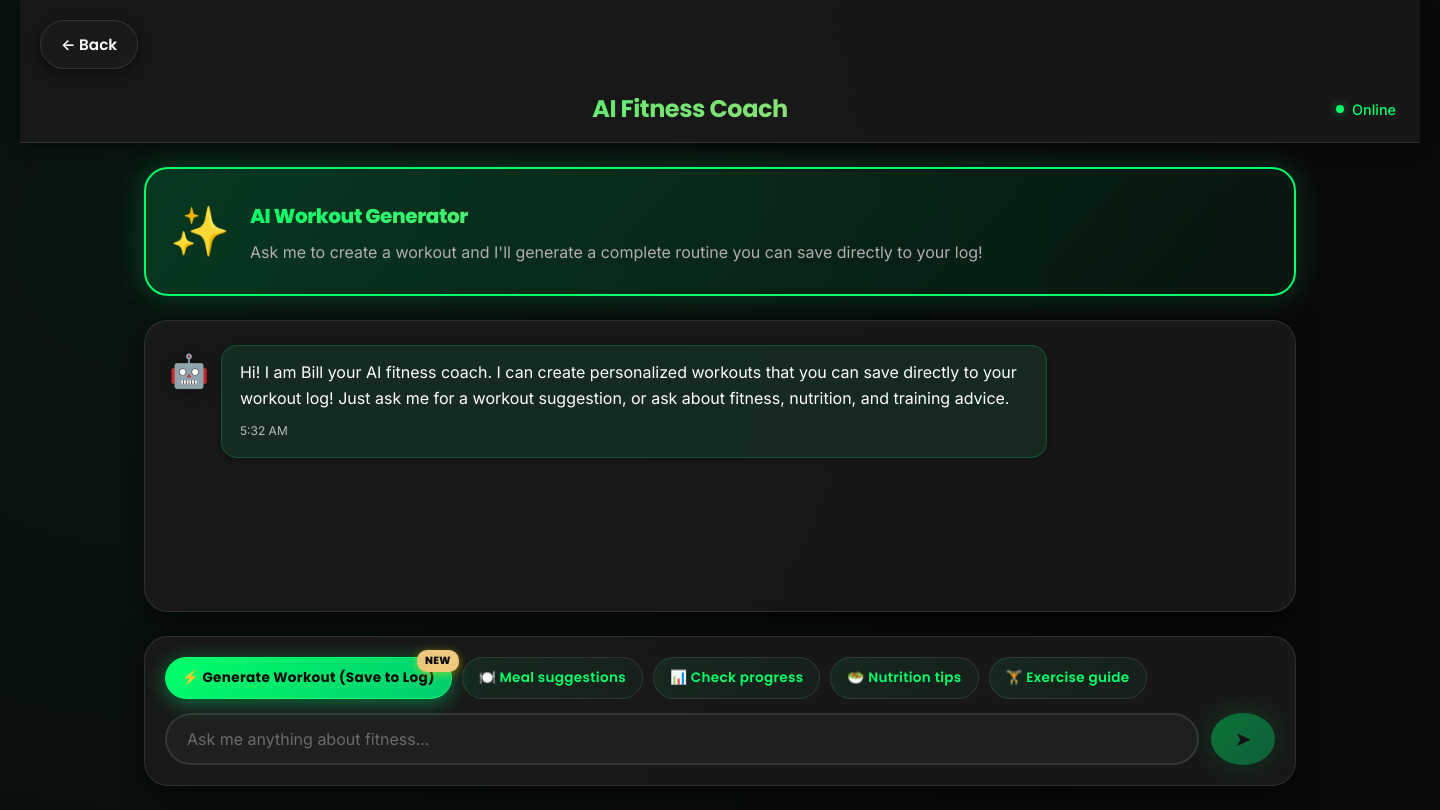
Test: AICoachPage › Chat Functionality › should show loading indicator while waiting for response
Type "Test message" into the field with placeholder "Ask me anything about fitness..." at [682, 739], box [165, 713, 1199, 765]
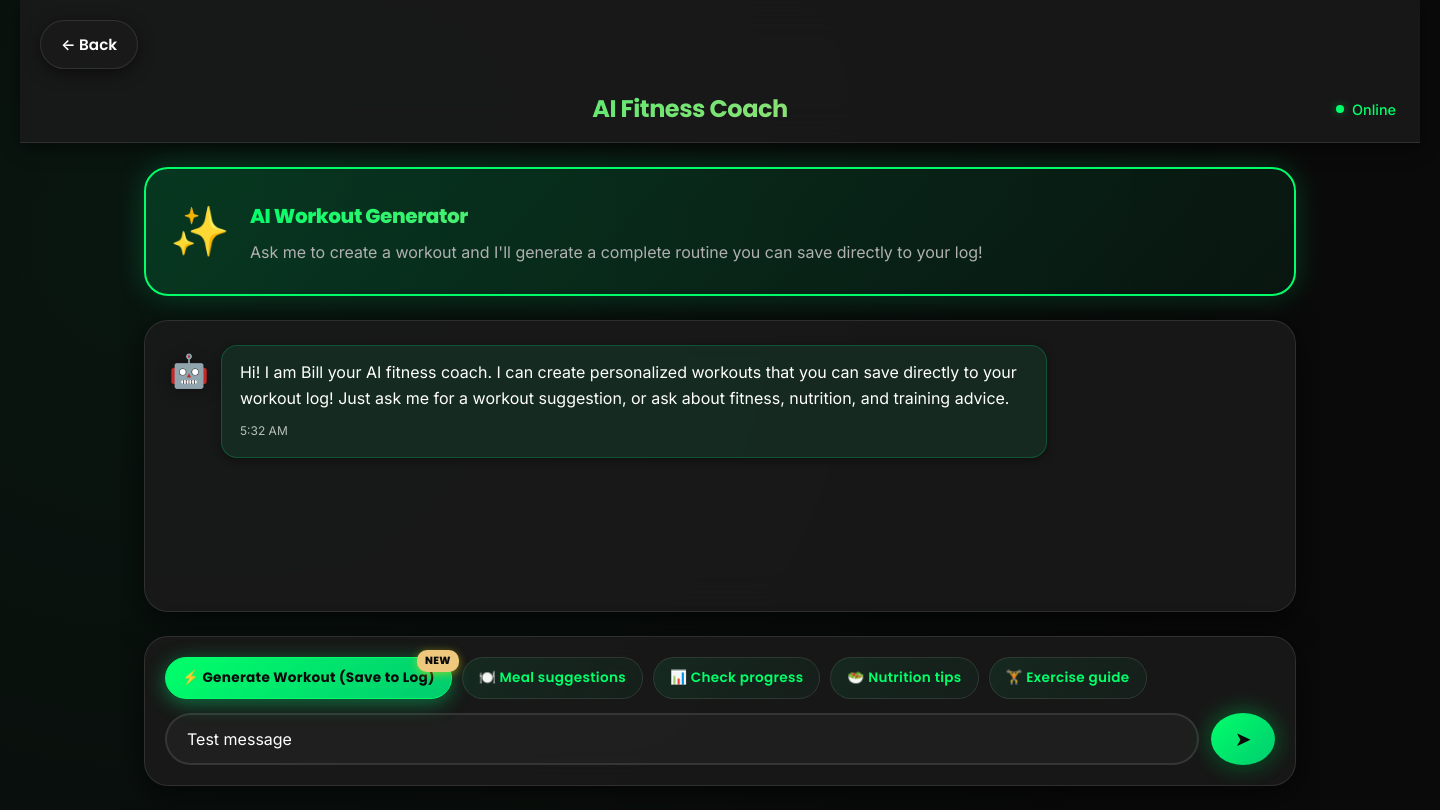
Click the button "➤" at [1243, 739], box [1211, 713, 1275, 765]
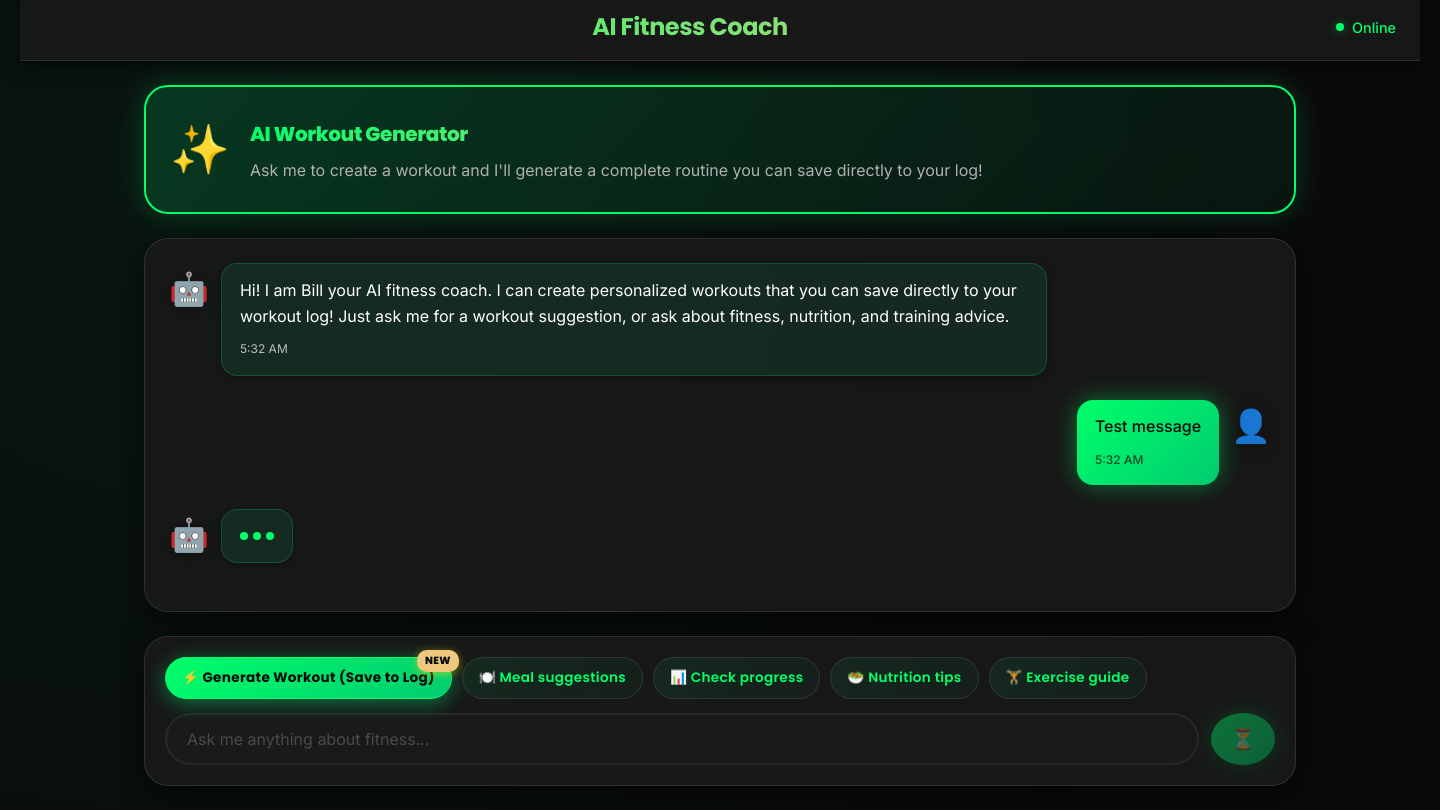
Expected: the button "⏳" is shown, [1211, 713, 1275, 765]
